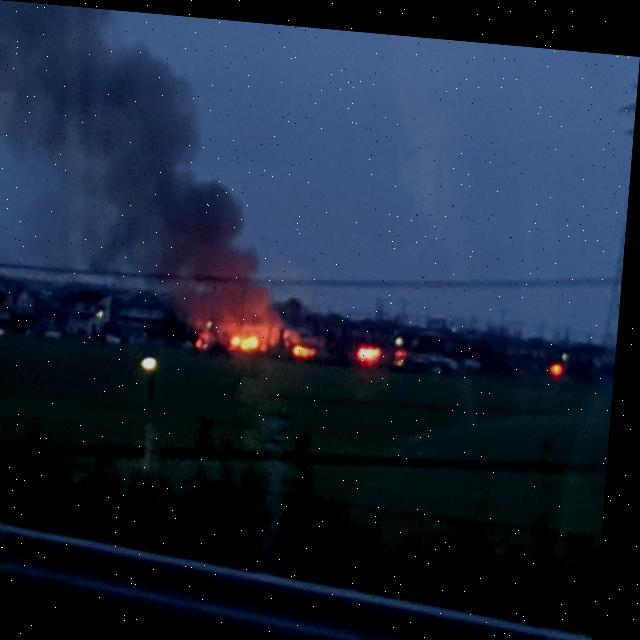Fire: (230, 323, 266, 349), (296, 334, 322, 354)
